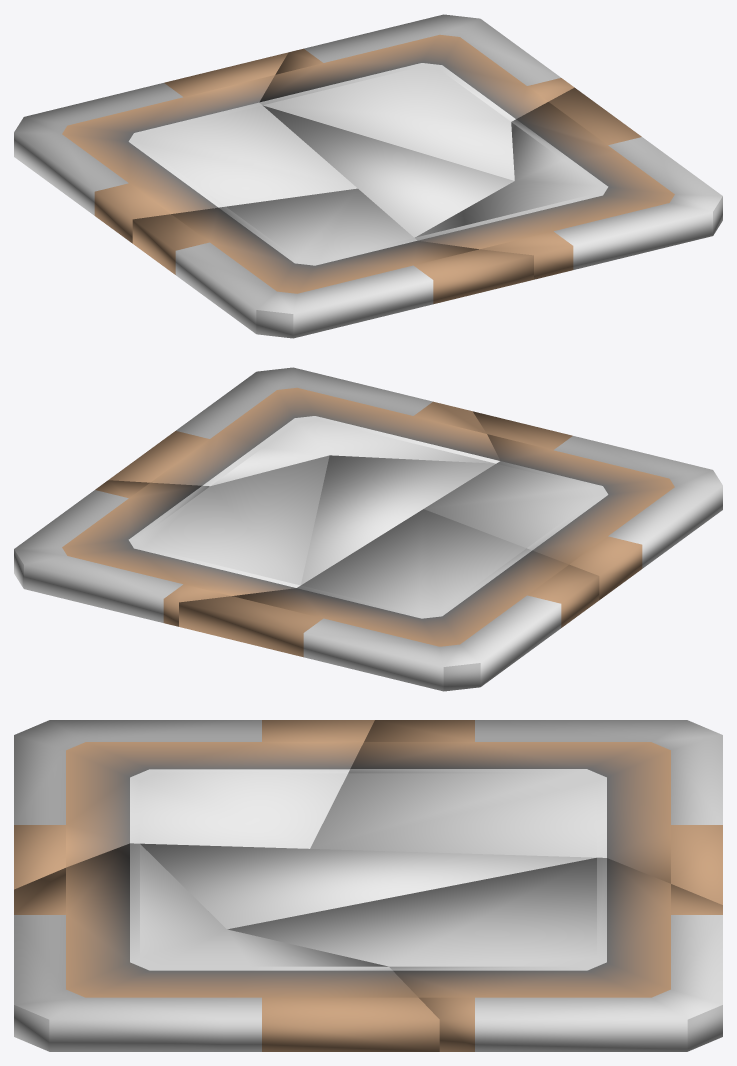
Rendered from SpacePlatformPieces.gltf.
The picture shows the model from 3 angles, top to bottom: view 1: azimuth 30°, elevation 25°; view 2: azimuth 150°, elevation 25°; view 3: azimuth 270°, elevation 25°; orthographic projection. The views are drawn at different scales.
Parts seen in each view (by area): view 1: SpacePlatformPiece1, SpacePlatformPiece4, SpacePlatformPiece2, SpacePlatformPiece3, SpacePlatformPiece5; view 2: SpacePlatformPiece4, SpacePlatformPiece3, SpacePlatformPiece1, SpacePlatformPiece2, SpacePlatformPiece5; view 3: SpacePlatformPiece3, SpacePlatformPiece2, SpacePlatformPiece4, SpacePlatformPiece1, SpacePlatformPiece5.
Part boxes in pixels (x1,y1,x2,y2): SpacePlatformPiece1: (132, 188, 533, 338); SpacePlatformPiece4: (14, 52, 357, 243); SpacePlatformPiece2: (414, 87, 722, 279); SpacePlatformPiece3: (259, 14, 574, 180); SpacePlatformPiece5: (263, 105, 514, 237); SpacePlatformPiece4: (179, 509, 599, 691); SpacePlatformPiece3: (14, 455, 329, 626); SpacePlatformPiece1: (424, 411, 722, 599); SpacePlatformPiece2: (108, 367, 499, 486); SpacePlatformPiece5: (301, 455, 495, 584); SpacePlatformPiece3: (227, 857, 722, 1051); SpacePlatformPiece2: (14, 843, 439, 1051); SpacePlatformPiece4: (310, 720, 722, 904); SpacePlatformPiece1: (14, 720, 374, 889); SpacePlatformPiece5: (140, 843, 595, 929).
Size of the model in its own units: 5 by 0.2501 by 5.
